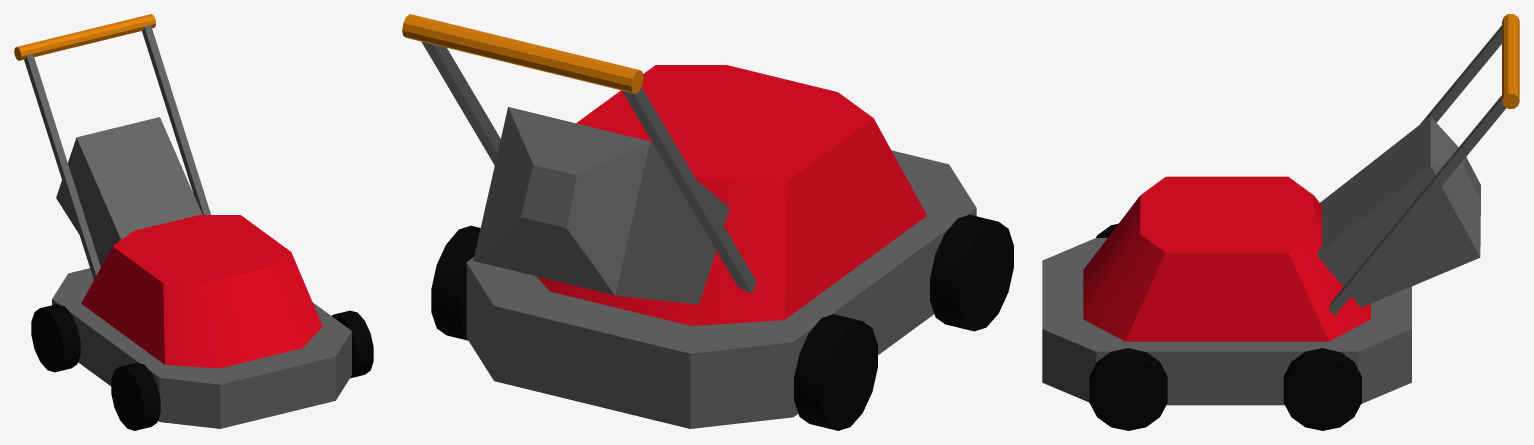
The model's file is tondeuse.fbx.
3 renders of one model, left to right at view 1: azimuth 30°, elevation 25°; view 2: azimuth 150°, elevation 25°; view 3: azimuth 270°, elevation 25°, orthographic. The views are drawn at different scales.
Visible parts, largest first — view 1: pCube2, pCube3, Pneu_R2, Pneu_R1, pCube4, pCube5, pCylinder1, Pneu_L1; view 2: pCube2, pCube3, Pneu_R2, Pneu_R1, pCylinder1, pCube4, Pneu_L2, pCube5; view 3: pCube2, pCube3, Pneu_L2, Pneu_L1, pCube5, pCylinder1, pCube4.
Part boxes in pixels (bbox=[...]): pCube2: bbox=[52, 215, 351, 428]; pCube3: bbox=[56, 117, 202, 266]; Pneu_R2: bbox=[31, 304, 80, 372]; Pneu_R1: bbox=[111, 362, 160, 430]; pCube4: bbox=[24, 54, 100, 279]; pCube5: bbox=[142, 25, 210, 214]; pCylinder1: bbox=[14, 14, 155, 60]; Pneu_L1: bbox=[332, 310, 373, 378]; pCube2: bbox=[466, 65, 976, 428]; pCube3: bbox=[473, 107, 729, 304]; Pneu_R2: bbox=[794, 314, 877, 430]; Pneu_R1: bbox=[930, 214, 1013, 331]; pCylinder1: bbox=[402, 14, 643, 93]; pCube4: bbox=[622, 87, 756, 293]; Pneu_L2: bbox=[431, 225, 480, 340]; pCube5: bbox=[421, 41, 500, 165]; pCube2: bbox=[1042, 176, 1411, 405]; pCube3: bbox=[1317, 116, 1480, 307]; Pneu_L2: bbox=[1283, 348, 1361, 430]; Pneu_L1: bbox=[1089, 348, 1167, 430]; pCube5: bbox=[1328, 95, 1506, 315]; pCylinder1: bbox=[1502, 14, 1519, 108]; pCube4: bbox=[1420, 25, 1501, 123].
Bounding box in the file's own units: 120 × 126 × 177.
